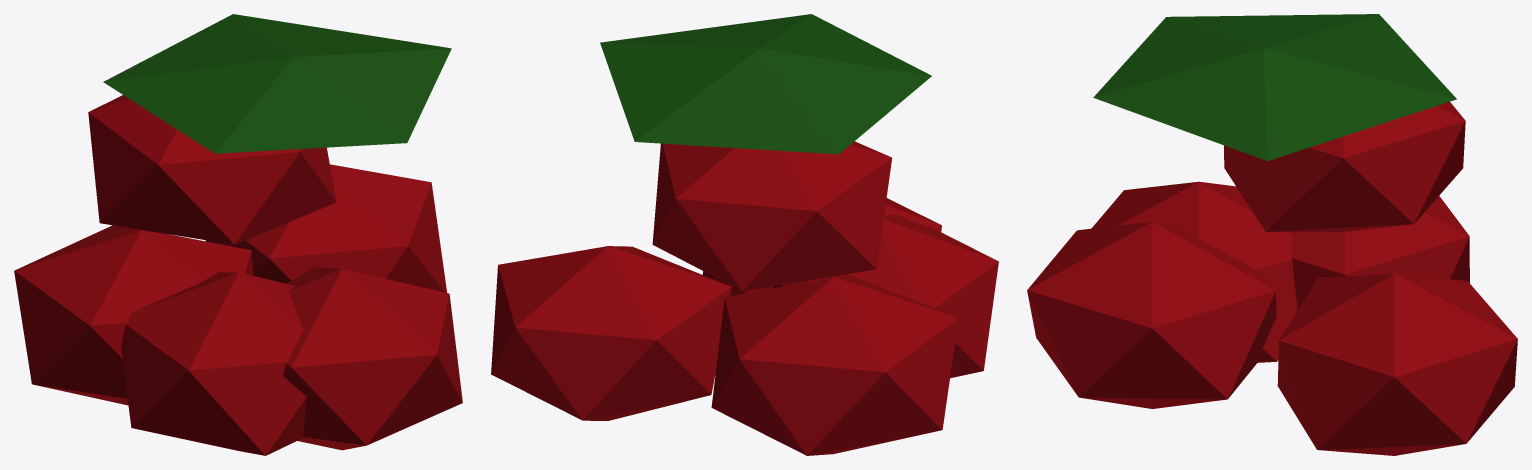
Rendered from berries.obj.
3 views of the same model, side by side, from view 1: azimuth 30°, elevation 25°; view 2: azimuth 150°, elevation 25°; view 3: azimuth 270°, elevation 25° (orthographic). The views are drawn at different scales.
Visible parts, largest first — view 1: Berries, Leaf; view 2: Berries, Leaf; view 3: Berries, Leaf.
Part boxes in pixels (x1,y1,x2,y2): Berries: [14, 95, 462, 455]; Leaf: [103, 14, 451, 153]; Berries: [491, 141, 998, 455]; Leaf: [600, 14, 931, 154]; Berries: [1027, 101, 1517, 455]; Leaf: [1093, 14, 1456, 160].
Bounding box in the file's own units: 1.07 × 0.8504 × 1.04.
